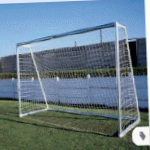goals: (14, 20, 143, 137)
